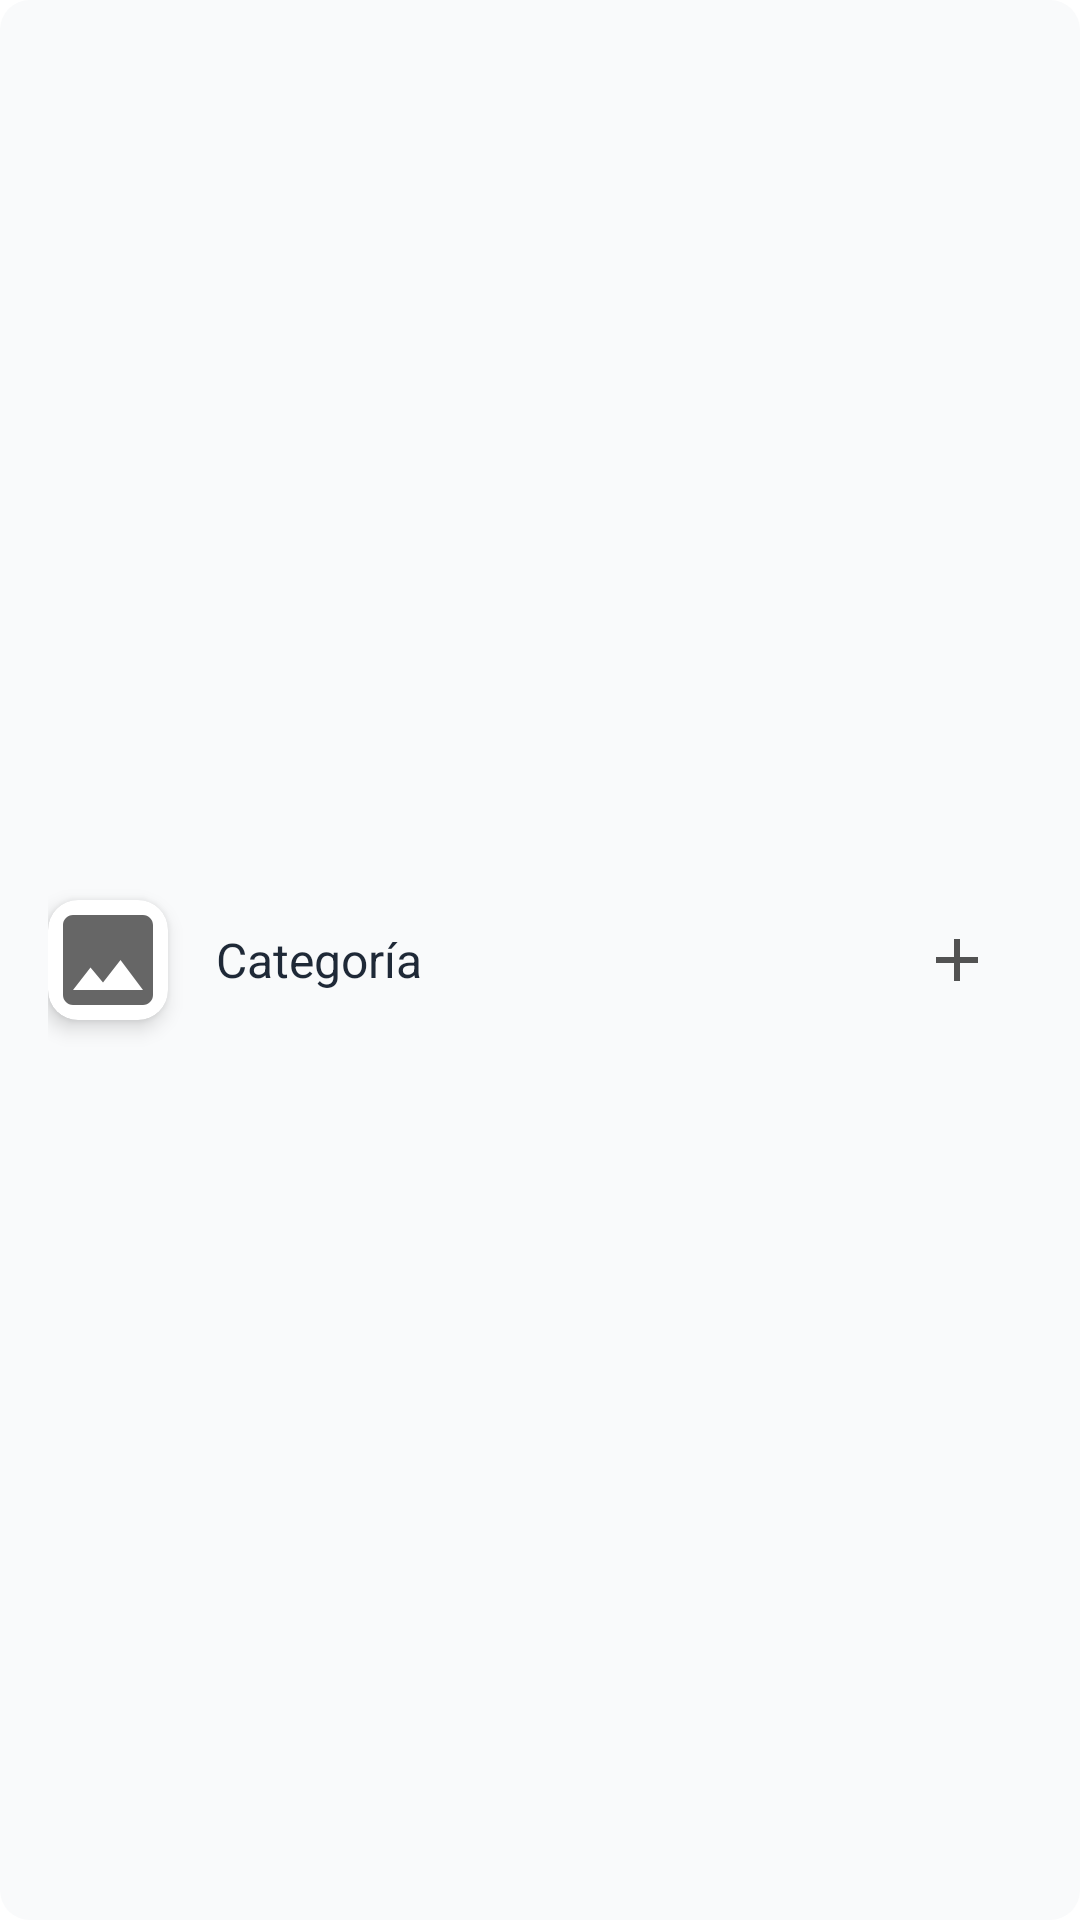

Icon bounding boxes for this 1080 x 1920 phone screenshot, format (x1, y1, x2, y2):
add: (936, 939, 978, 981)
